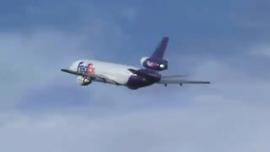aircraft: (61, 36, 210, 89)
